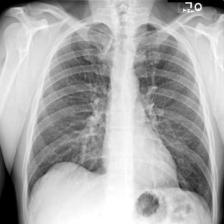normal: (23, 17, 217, 217)
